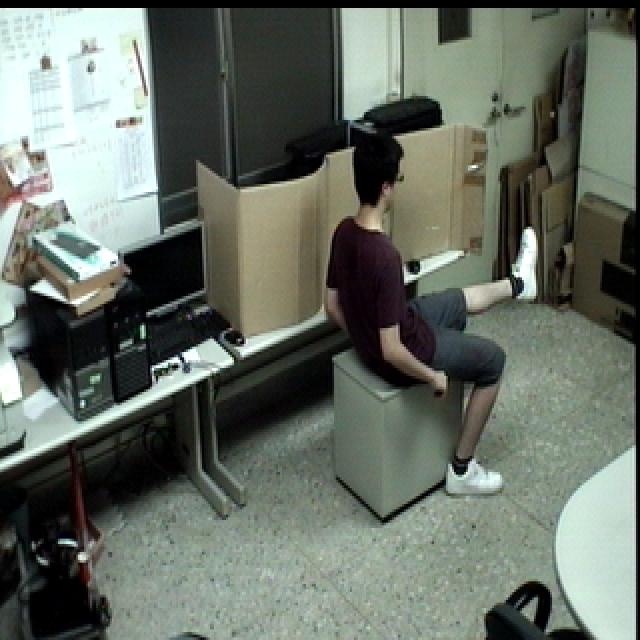sit: (319, 130, 546, 504)
